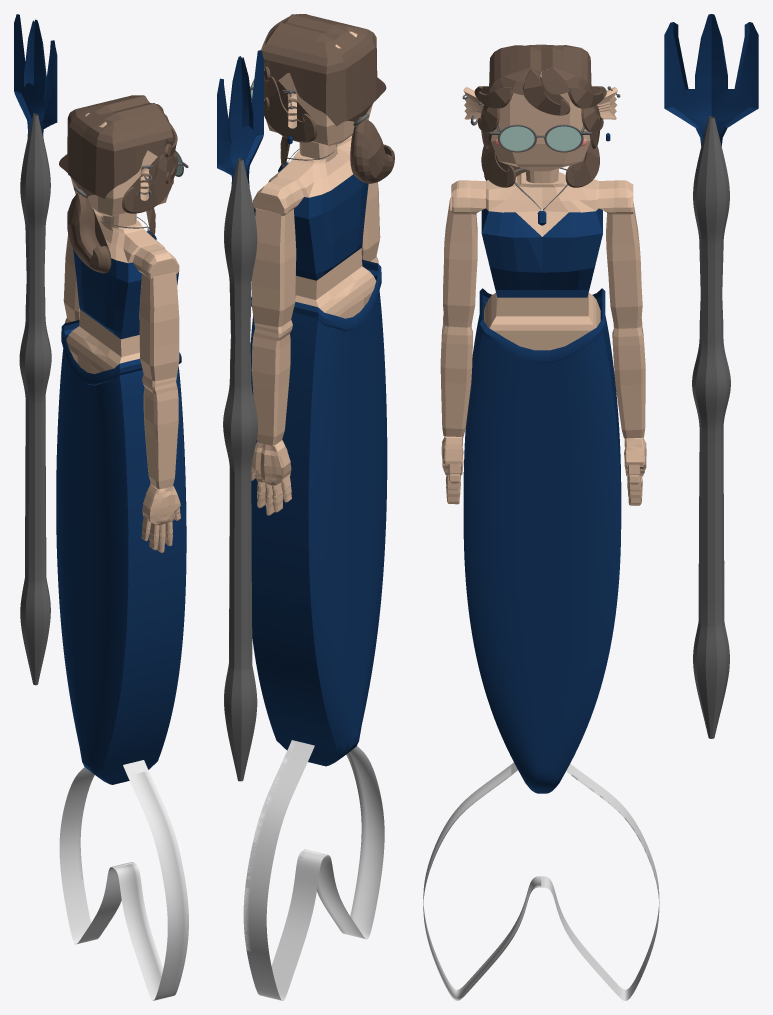
The model's file is mermaid.fbx.
The picture shows the model from 3 angles, left to right: view 1: azimuth 30°, elevation 25°; view 2: azimuth 150°, elevation 25°; view 3: azimuth 270°, elevation 25°; orthographic projection. The views are drawn at different scales.
Parts seen in each view (by area): view 1: NurbsPath, NurbsPath.001, NurbsPath.002, hair base wavy.001, arms.004, torso.002, NurbsPath.003, waist.002, hair wisp medium down.004, Cube.010, collar.004, hair wisp medium down.005 (+4 smaller); view 2: NurbsPath, NurbsPath.001, NurbsPath.002, hair base wavy.001, arms.005, torso.002, NurbsPath.003, waist.002, collar.004, Cube.013, hair wisp medium down.004, hair wisp medium down.005 (+4 smaller); view 3: NurbsPath, NurbsPath.002, torso.002, NurbsPath.003, arms.005, arms.004, NurbsPath.001, waist.002, collar.004, head.003, hair base wavy.001, hair wisp medium down.006 (+10 smaller).
Boxes of the visible parts, x1,y1,x2,y2 form: NurbsPath: (56,320,186,784); NurbsPath.001: (59,760,188,1000); NurbsPath.002: (19,113,51,685); hair base wavy.001: (59,95,173,198); arms.004: (139,272,179,489); torso.002: (73,249,178,339); NurbsPath.003: (14,14,57,538); waist.002: (66,309,139,373); hair wisp medium down.004: (67,189,111,273); Cube.010: (141,483,180,552); collar.004: (94,210,165,263); hair wisp medium down.005: (122,154,173,213); NurbsPath: (250,259,387,766); NurbsPath.001: (243,740,384,1000); NurbsPath.002: (223,158,257,781); hair base wavy.001: (262,14,386,126); arms.005: (251,208,296,445); torso.002: (253,174,368,280); NurbsPath.003: (217,50,263,627); waist.002: (295,248,376,318); collar.004: (268,138,352,197); Cube.013: (251,440,291,515); hair wisp medium down.004: (350,116,394,183); hair wisp medium down.005: (264,76,317,142); NurbsPath: (463,288,621,793); NurbsPath.002: (692,116,730,738); torso.002: (481,208,602,297); NurbsPath.003: (664,14,758,566); arms.005: (606,202,645,438); arms.004: (440,197,477,436); NurbsPath.001: (423,762,659,1000); waist.002: (484,293,600,350); collar.004: (485,172,598,236); head.003: (491,45,590,171); hair base wavy.001: (489,44,591,90); hair wisp medium down.006: (481,141,599,187).
Bounding box in the file's own units: 277 × 2411 × 751.
